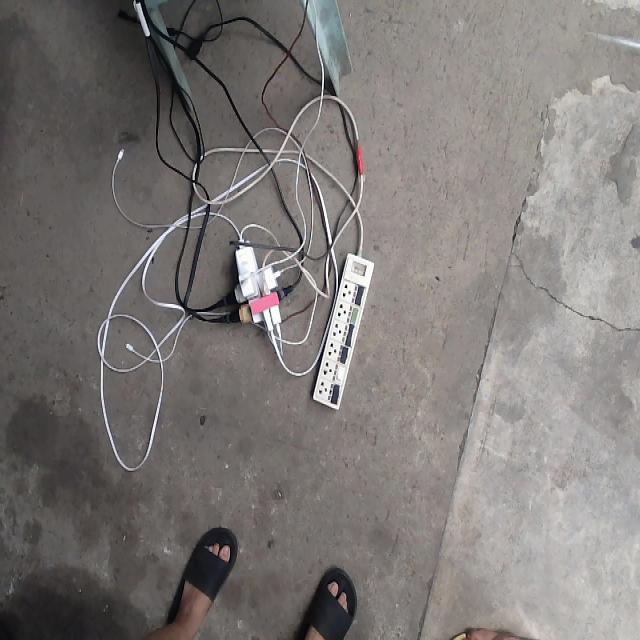-: (221, 234, 284, 334)
